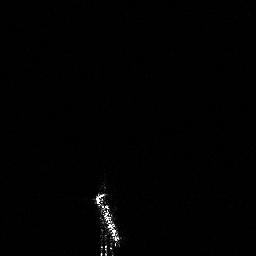ship: (92, 182, 123, 256)
